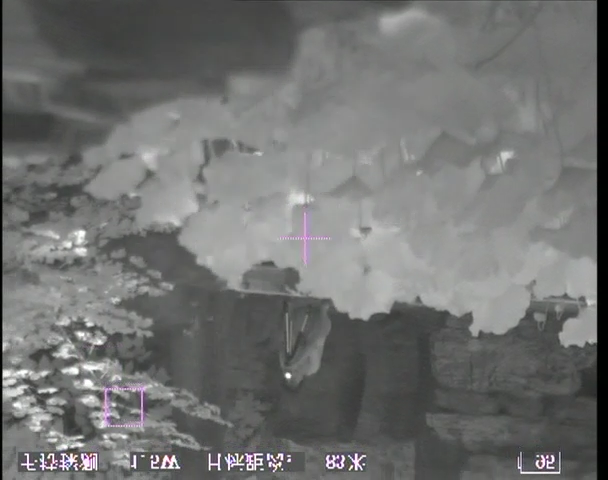my: (282, 370, 294, 381)
